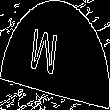M_S: (39, 25, 71, 85)
